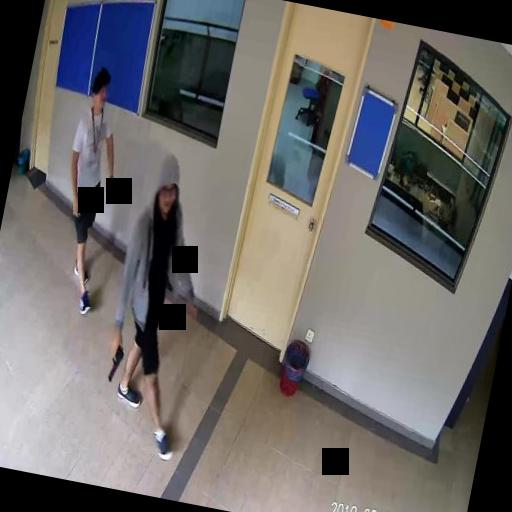Handgun: (104, 338, 124, 382)
